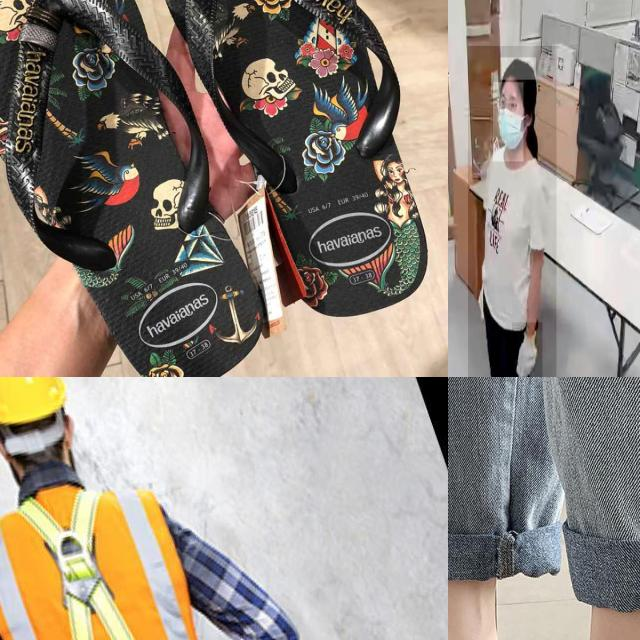Harness: (18, 490, 135, 640)
Sandals: (0, 0, 435, 377)
face_mask: (493, 82, 523, 162)
hand_glove: (512, 322, 543, 377)
head_nohelmet: (500, 58, 536, 80)
person: (468, 45, 557, 377)
